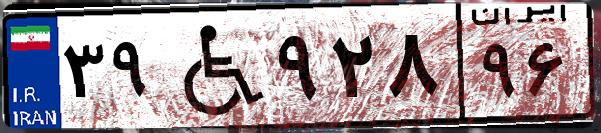2: (330, 28, 385, 110)
3: (57, 26, 110, 100)
6: (525, 38, 570, 115)
8: (385, 28, 445, 110)
9: (270, 28, 330, 110), (475, 38, 525, 113), (110, 28, 158, 98)
ژ (معلولین و جانبازان): (158, 12, 270, 120)
